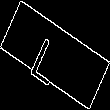L_NE: (35, 25, 75, 85)
